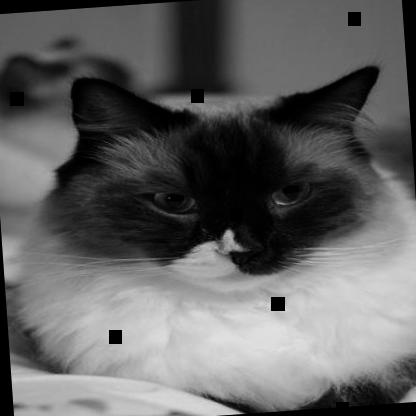cat: (3, 54, 415, 415)
